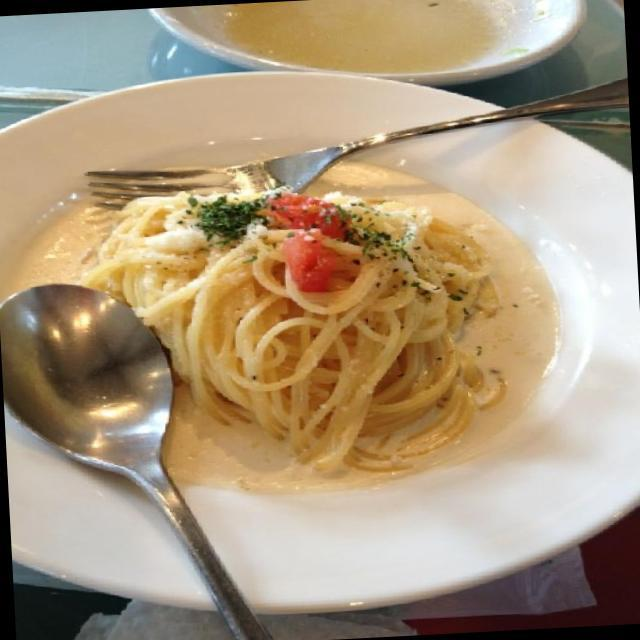Pasta: (97, 160, 505, 474)
